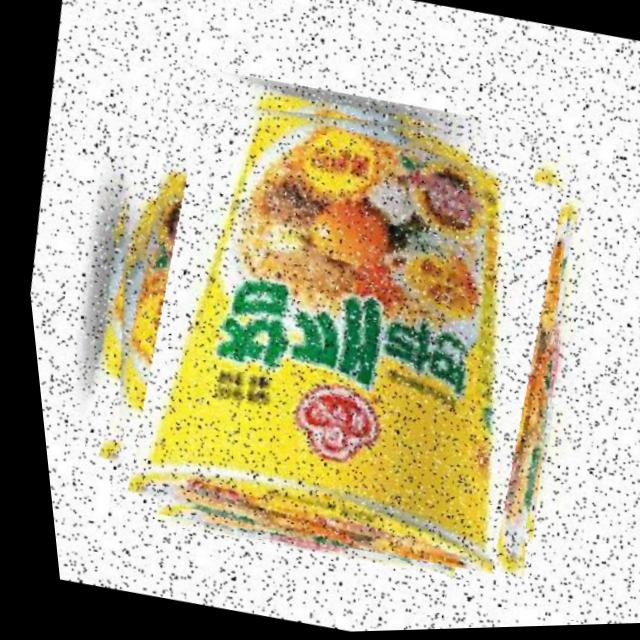Miscellaneous: (36, 55, 606, 592)
